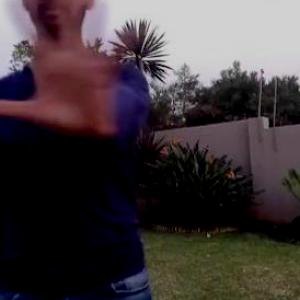follow_hand: (1, 0, 150, 141)
